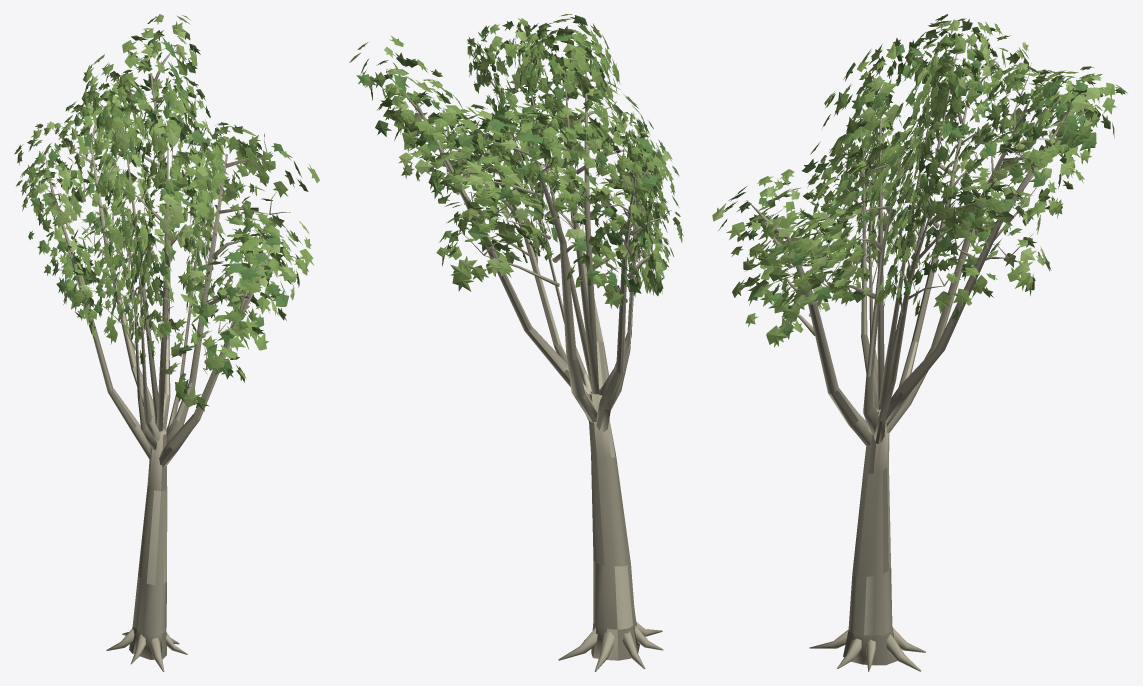
The picture shows the model from 3 angles, left to right: view 1: azimuth 30°, elevation 25°; view 2: azimuth 150°, elevation 25°; view 3: azimuth 270°, elevation 25°; orthographic projection. The views are drawn at different scales.
Parts seen in each view (by area): view 1: tree_plane_a_PlaneLeaf, tree_plane_a_PlaneBark, tree_plane_a_PlaneLeafDark, tree_plane_a_PlaneLeafLight, tree_plane_a_PlaneBarkPale, tree_plane_a_PlaneBarkBrown; view 2: tree_plane_a_PlaneLeaf, tree_plane_a_PlaneBark, tree_plane_a_PlaneLeafDark, tree_plane_a_PlaneLeafLight, tree_plane_a_PlaneBarkPale, tree_plane_a_PlaneBarkBrown; view 3: tree_plane_a_PlaneLeaf, tree_plane_a_PlaneBark, tree_plane_a_PlaneLeafLight, tree_plane_a_PlaneLeafDark, tree_plane_a_PlaneBarkPale, tree_plane_a_PlaneBarkBrown.
Boxes of the visible parts, bbox=[...] form: tree_plane_a_PlaneLeaf: bbox=[14, 21, 319, 411]; tree_plane_a_PlaneBark: bbox=[40, 44, 290, 671]; tree_plane_a_PlaneLeafDark: bbox=[16, 15, 308, 393]; tree_plane_a_PlaneLeafLight: bbox=[23, 14, 309, 407]; tree_plane_a_PlaneBarkPale: bbox=[77, 73, 266, 629]; tree_plane_a_PlaneBarkBrown: bbox=[50, 73, 200, 658]; tree_plane_a_PlaneLeaf: bbox=[372, 14, 682, 308]; tree_plane_a_PlaneBark: bbox=[386, 41, 671, 671]; tree_plane_a_PlaneLeafDark: bbox=[356, 15, 683, 297]; tree_plane_a_PlaneLeafLight: bbox=[349, 23, 673, 295]; tree_plane_a_PlaneBarkPale: bbox=[416, 82, 636, 660]; tree_plane_a_PlaneBarkBrown: bbox=[475, 81, 637, 660]; tree_plane_a_PlaneLeaf: bbox=[724, 14, 1127, 347]; tree_plane_a_PlaneBark: bbox=[743, 54, 1095, 671]; tree_plane_a_PlaneLeafLight: bbox=[712, 19, 1102, 335]; tree_plane_a_PlaneLeafDark: bbox=[718, 27, 1124, 339]; tree_plane_a_PlaneBarkPale: bbox=[786, 100, 1029, 635]; tree_plane_a_PlaneBarkBrown: bbox=[788, 100, 1060, 665].
Bounding box in the file's own units: 7.14 × 16.04 × 9.31.
